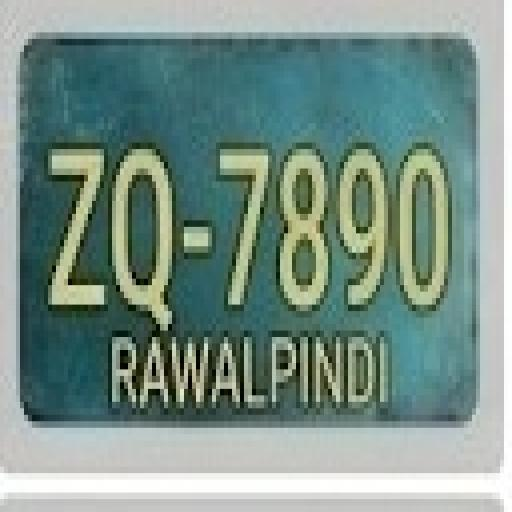0: (399, 144, 456, 310)
7: (211, 145, 271, 321)
8: (272, 134, 332, 314)
9: (334, 136, 392, 318)
Q: (106, 144, 174, 326)
Z: (39, 142, 105, 318)
